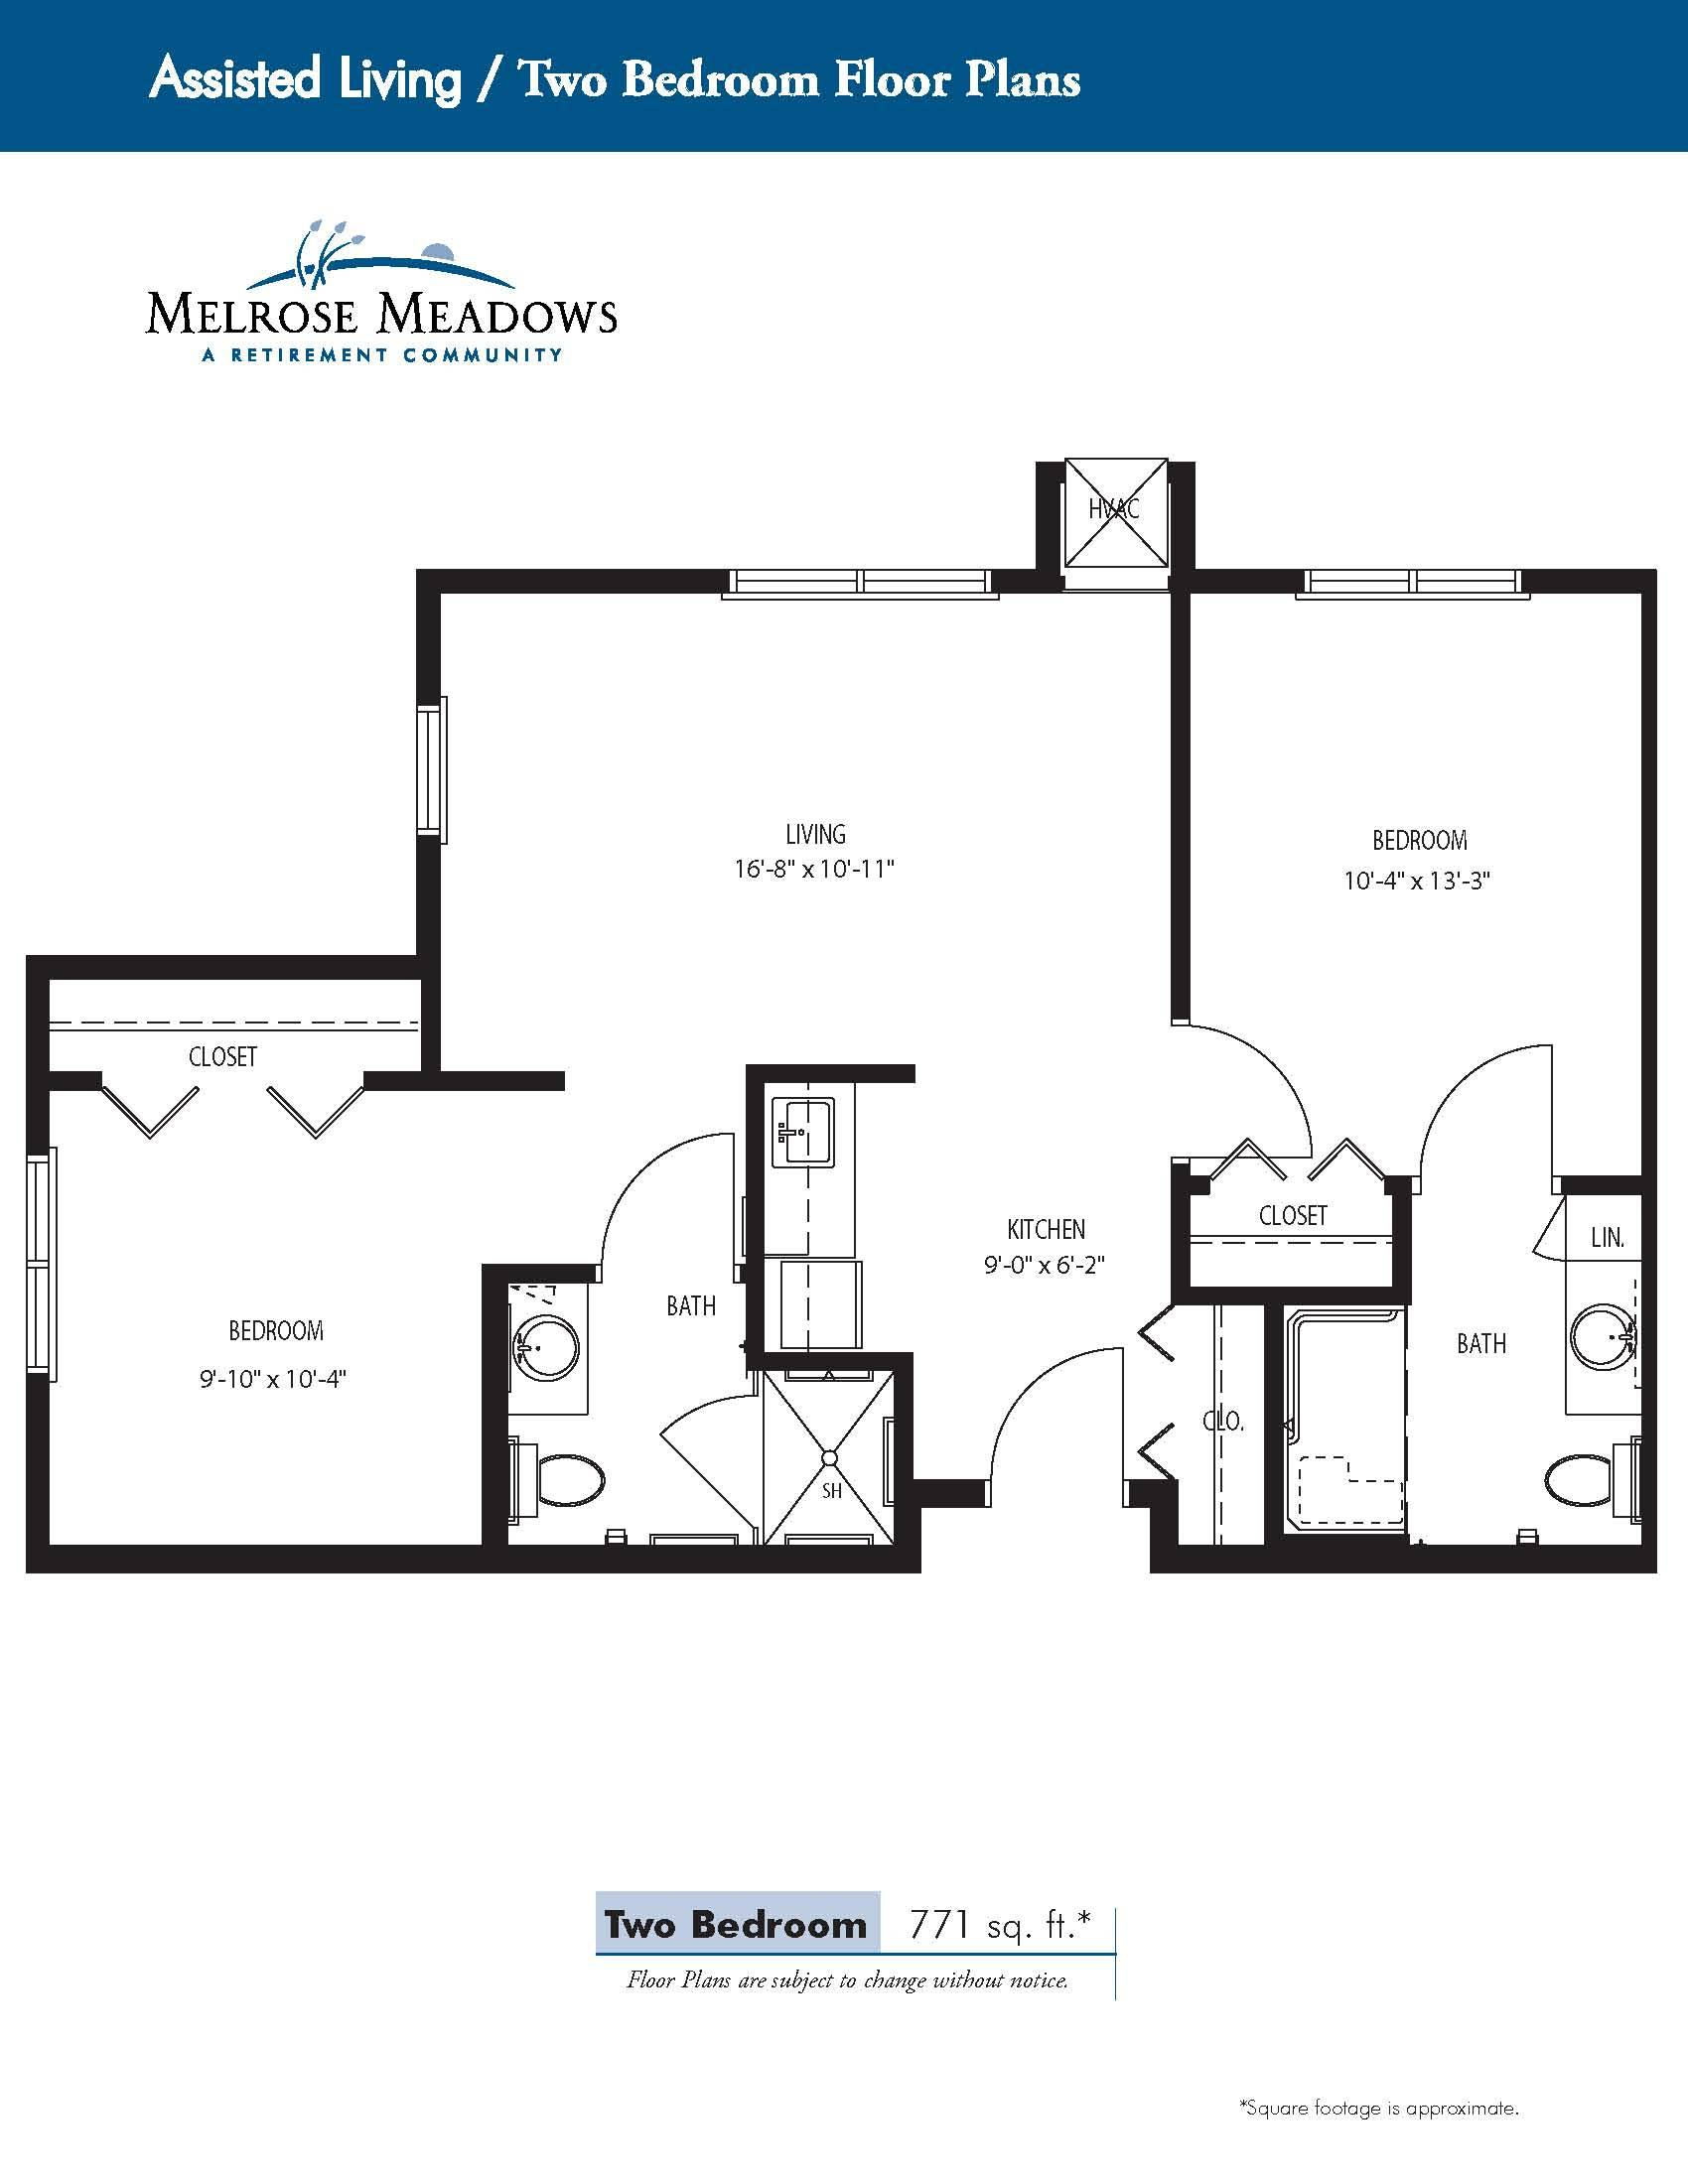door: (968, 1330, 1135, 1477), (1408, 1019, 1576, 1161), (603, 1124, 743, 1241), (644, 1383, 746, 1523), (98, 1062, 209, 1158), (248, 1064, 360, 1159), (1131, 1301, 1184, 1369), (1133, 1408, 1186, 1475)
